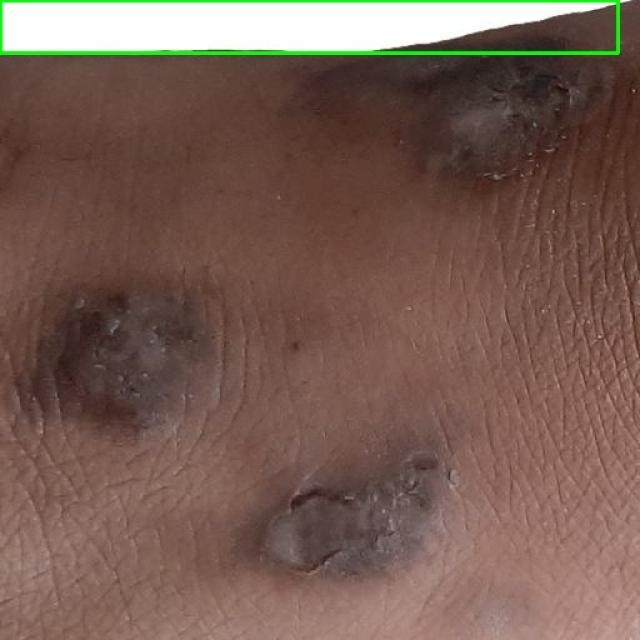Contact Dermatitis: (0, 0, 618, 52)
